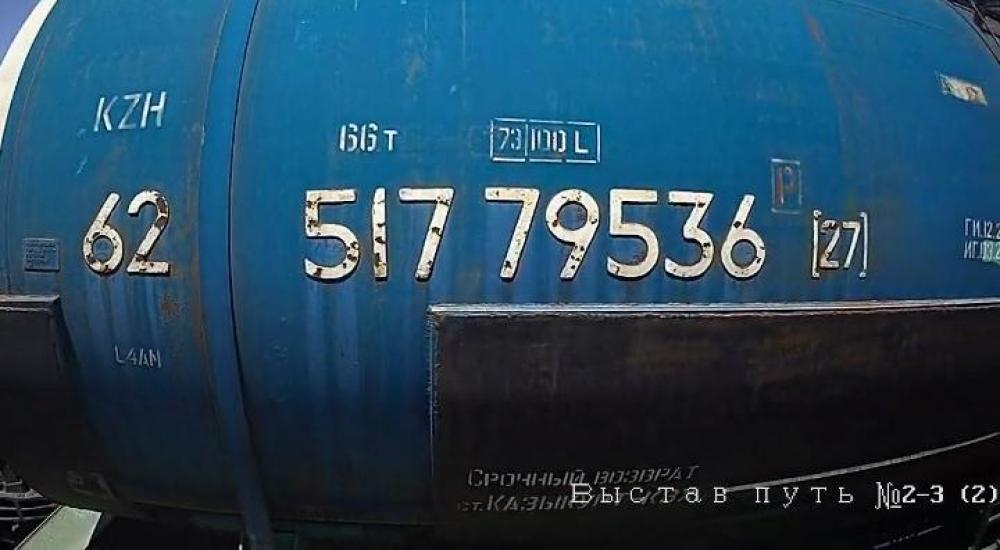Wagon-number: (297, 183, 769, 285)
